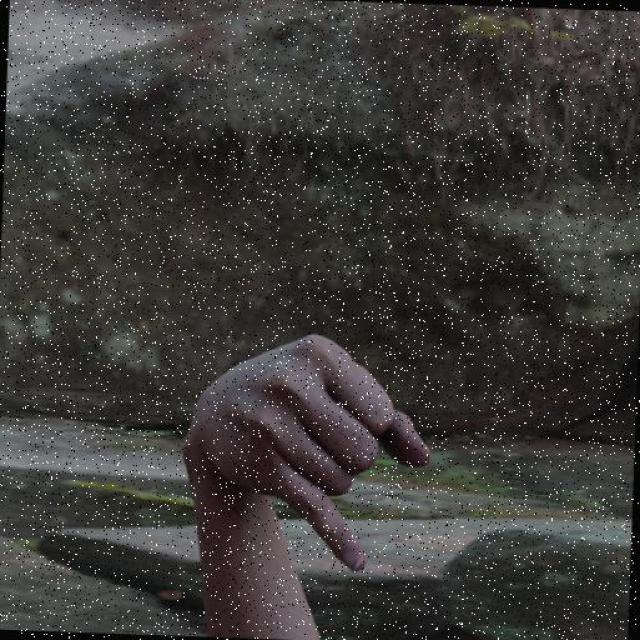J: (131, 320, 442, 640)
